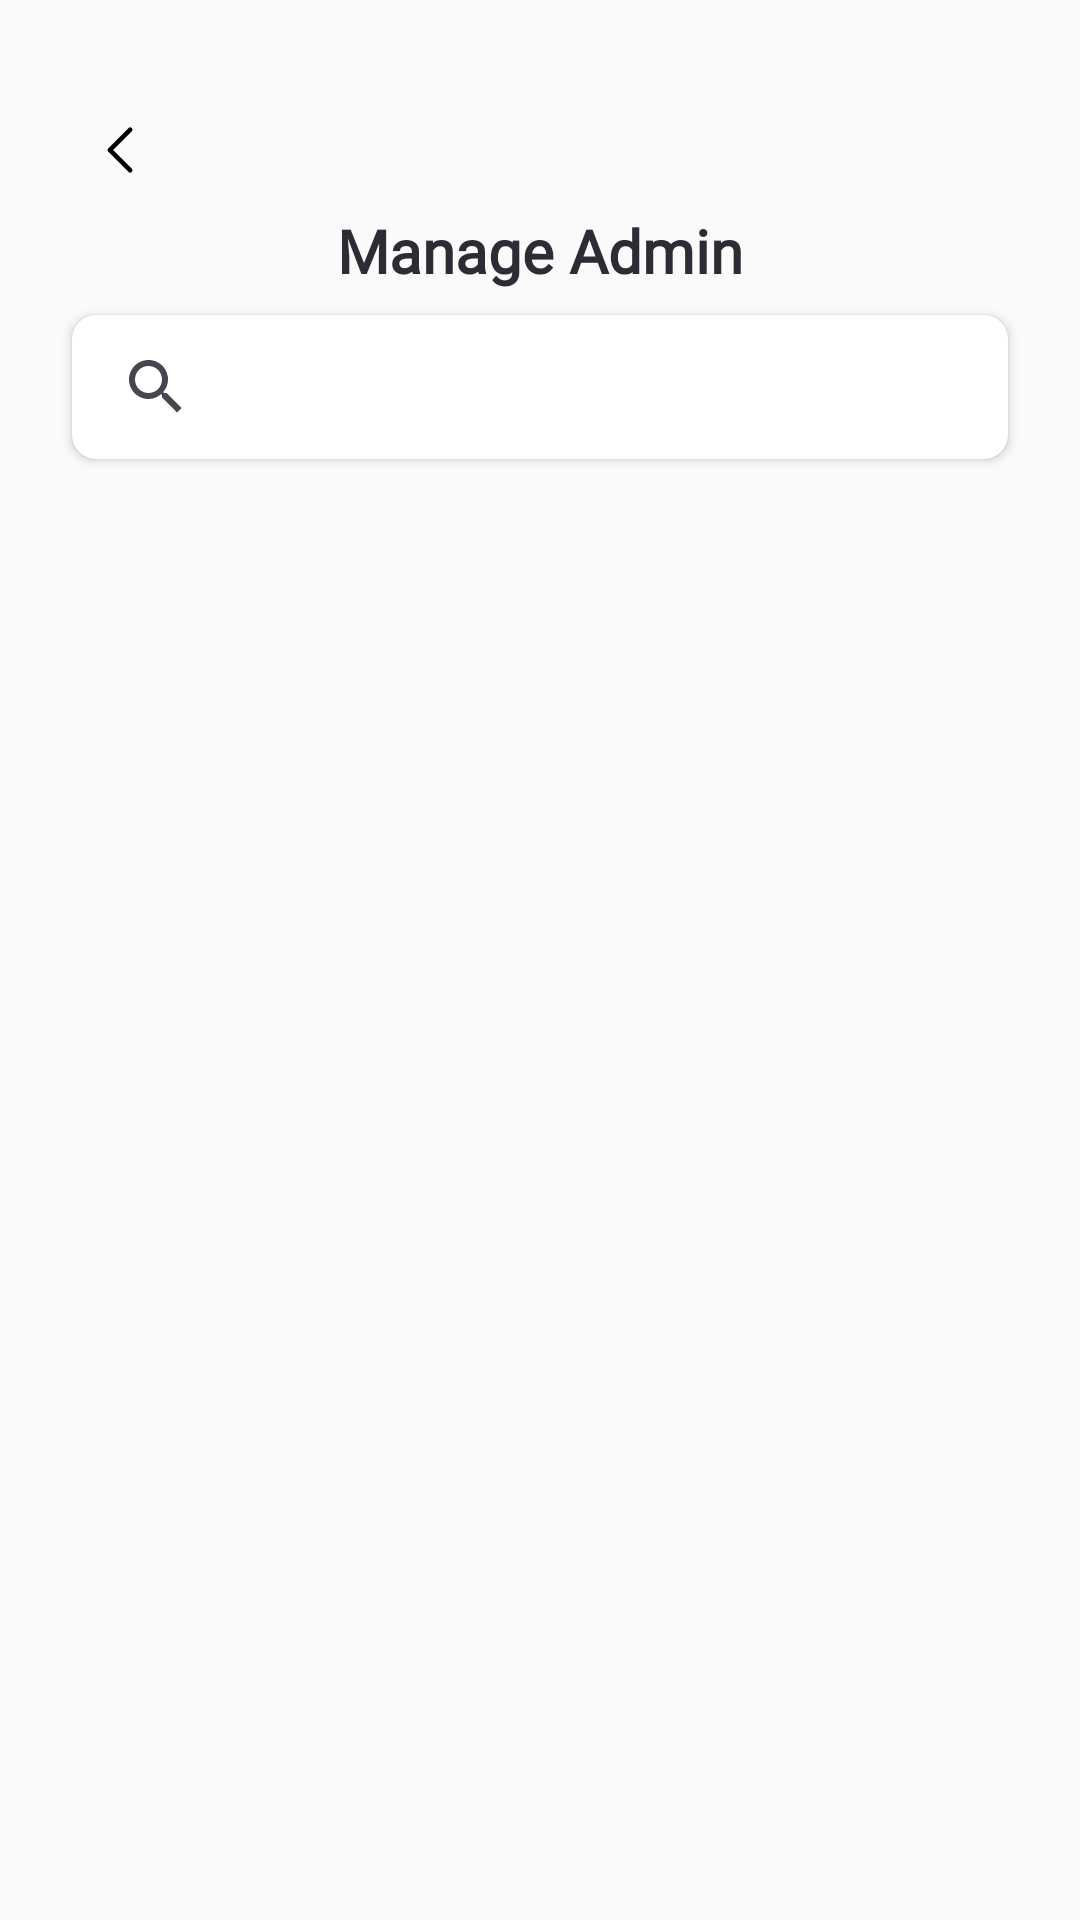

Locate icon controls on the screen. Image size 1080 × 1920, boxes as bbox(x1, y1, x2, y2).
Back: bbox(107, 127, 133, 173)
